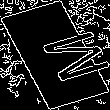M_W: (12, 24, 98, 86)
